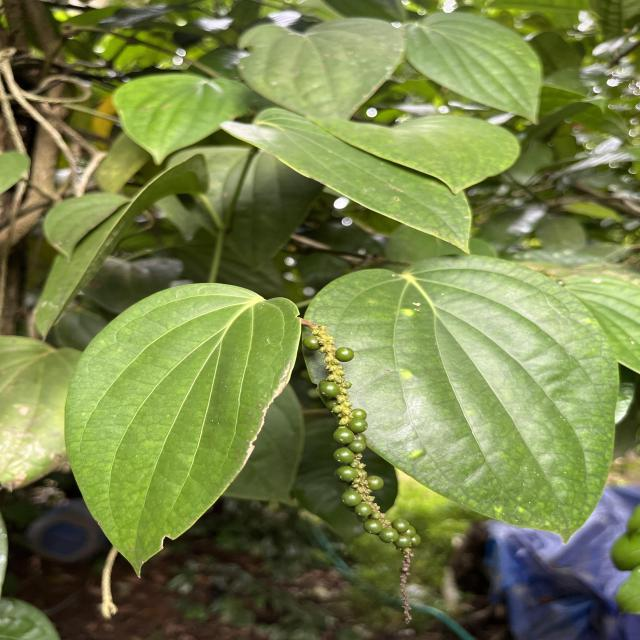Piper nigrum: (302, 252, 622, 548), (63, 282, 304, 580)
